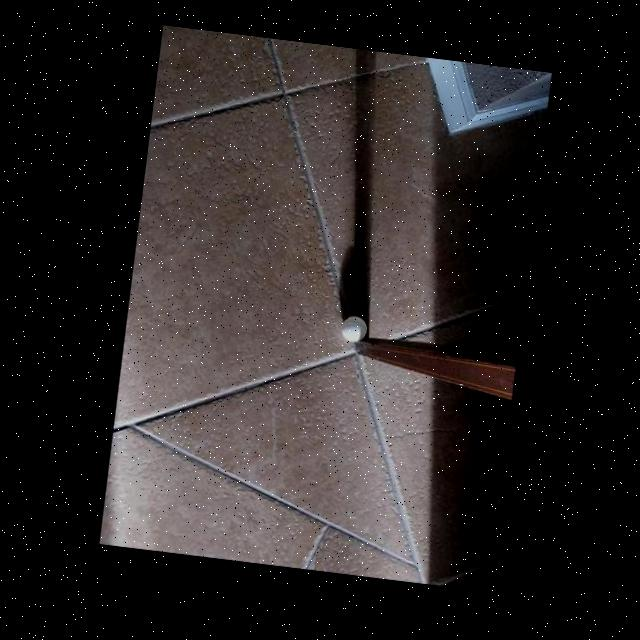ping-pong-ball: (338, 314, 368, 342)
